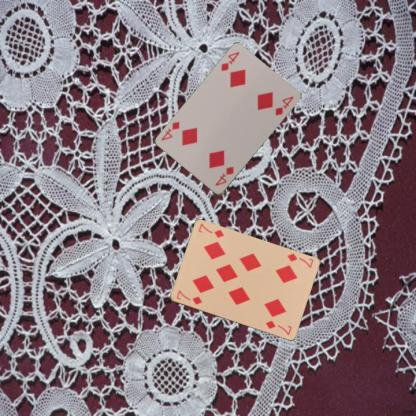4d: (213, 164, 235, 187), (218, 50, 241, 72)
7d: (173, 288, 203, 306), (284, 251, 314, 269)
